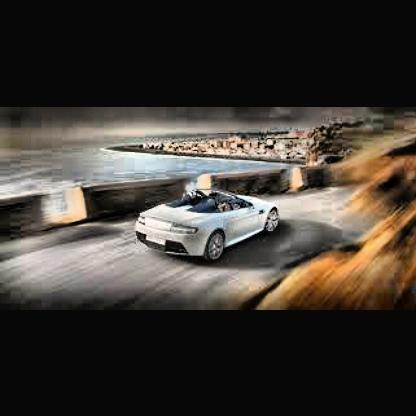Aston Martin V8 Vantage Convertible 2012: (137, 190, 284, 262)
